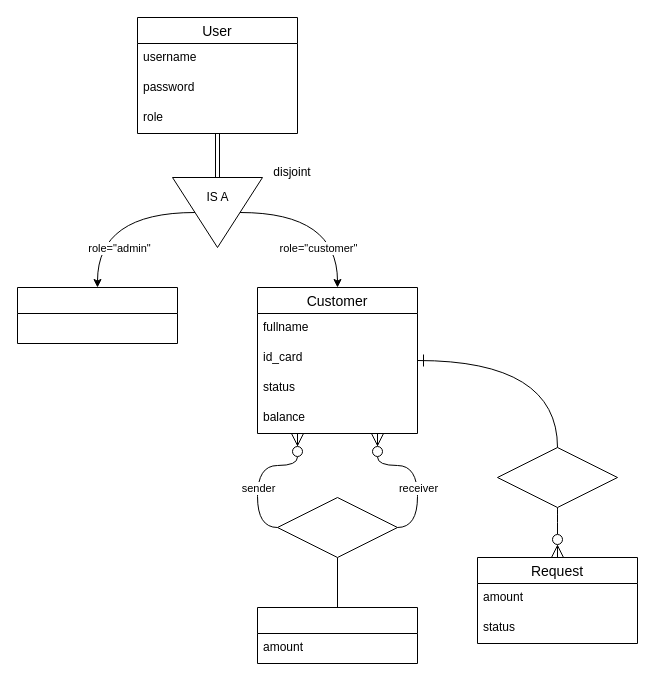
Image size: 655x684. Some labels were removed from this diagram. Each missing label, with the centre of its shape:
"Admin" belongs at (x=97, y=315).
"requests" belongs at (x=557, y=477).
"transfers" belongs at (x=337, y=527).
